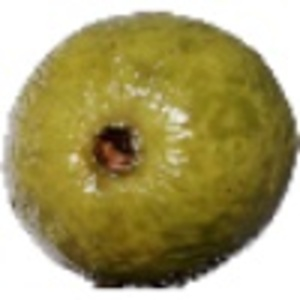goiaba: (3, 5, 299, 289)
